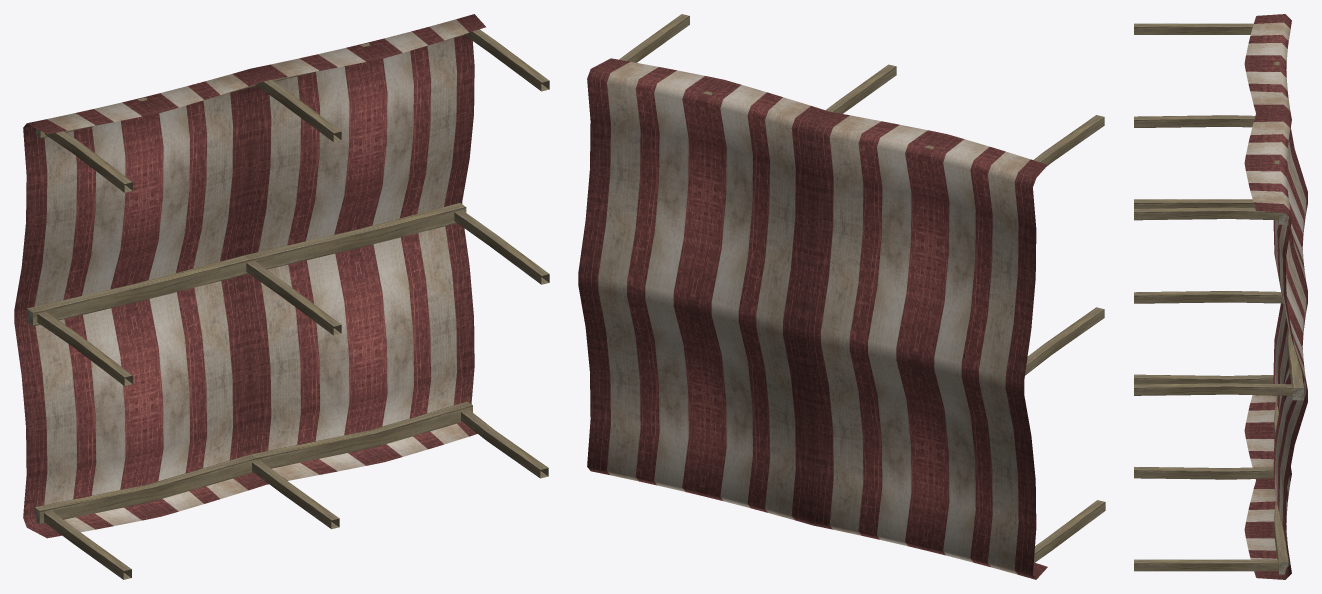
Rendered from Merchant_Tent_Type_03_D.fbx.
3 renders of one model, left to right at view 1: azimuth 30°, elevation 25°; view 2: azimuth 150°, elevation 25°; view 3: azimuth 270°, elevation 25°, orthographic. The views are drawn at different scales.
Parts seen in each view (by area): view 1: Merchant_Tent_Type_03_D; view 2: Merchant_Tent_Type_03_D; view 3: Merchant_Tent_Type_03_D.
Part boxes in pixels (<box>): Merchant_Tent_Type_03_D: <box>14,14,549,579</box>; Merchant_Tent_Type_03_D: <box>578,14,1105,579</box>; Merchant_Tent_Type_03_D: <box>1134,14,1307,579</box>.
Size of the model in its own units: 10.52 by 9.08 by 3.89.
